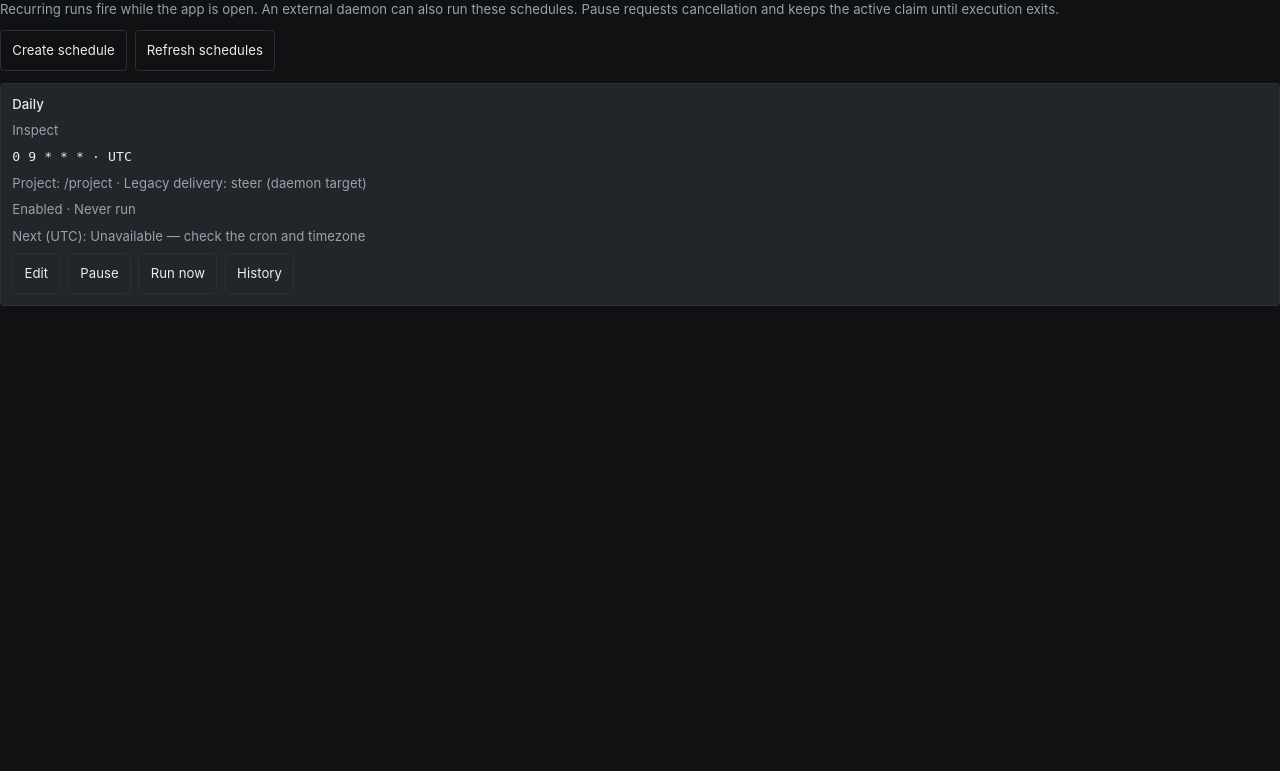
Test: identifies existing daemon delivery modes without claiming a fresh session
The width and height of the screenshot is (1280, 771).
Expected: the text "Project: /project · Legacy delivery: steer (daemon target)" is shown, [12,175,367,191]
Click the button with aria-label "Edit Daily" at (36, 273), box [12,253,60,294]
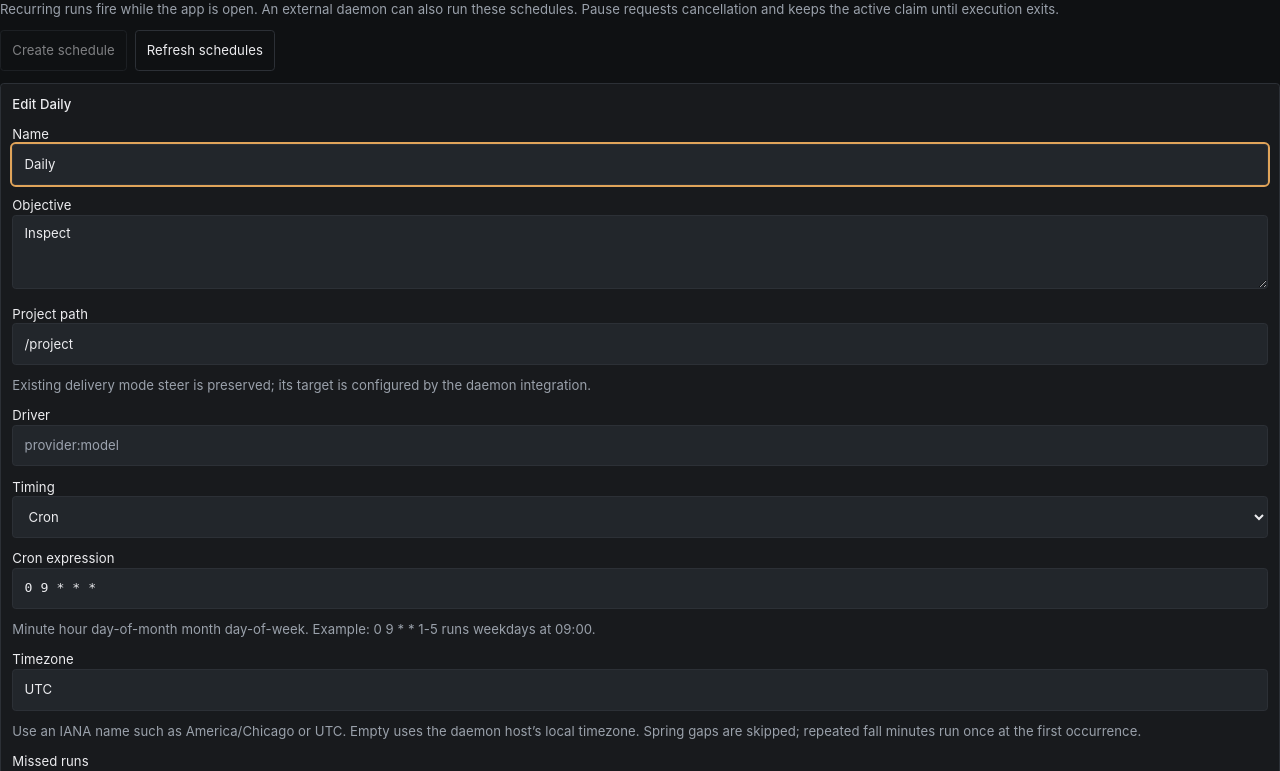
Expected: the text "Existing delivery mode steer is preserved" is shown, [12,377,591,393]
